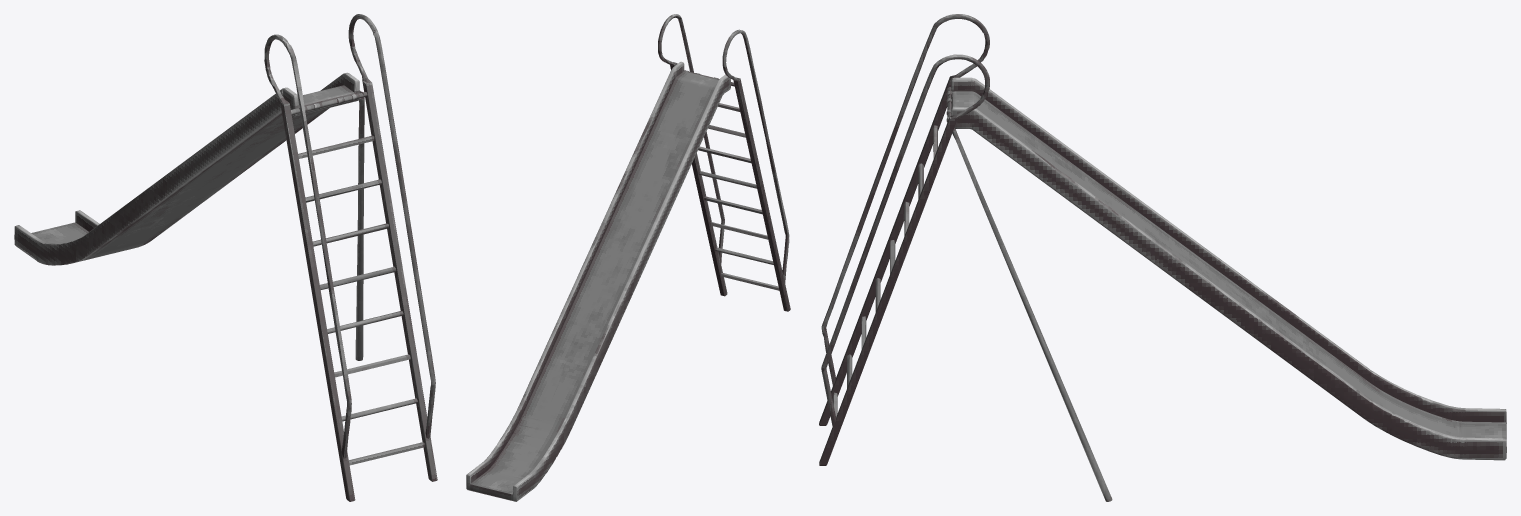
File: slide.glb
3 views of the same model, side by side, from view 1: azimuth 30°, elevation 25°; view 2: azimuth 150°, elevation 25°; view 3: azimuth 270°, elevation 25° (orthographic). The views are drawn at different scales.
Parts seen in each view (by area): view 1: mesh; view 2: mesh; view 3: mesh.
Part boxes in pixels (box(x1,y1,x2,y2)): mesh: box(14, 14, 437, 501); mesh: box(466, 14, 790, 501); mesh: box(819, 14, 1506, 501).
Bounding box in the file's own units: 0.8506 × 2.12 × 3.2.
1 material, 1 textured.
